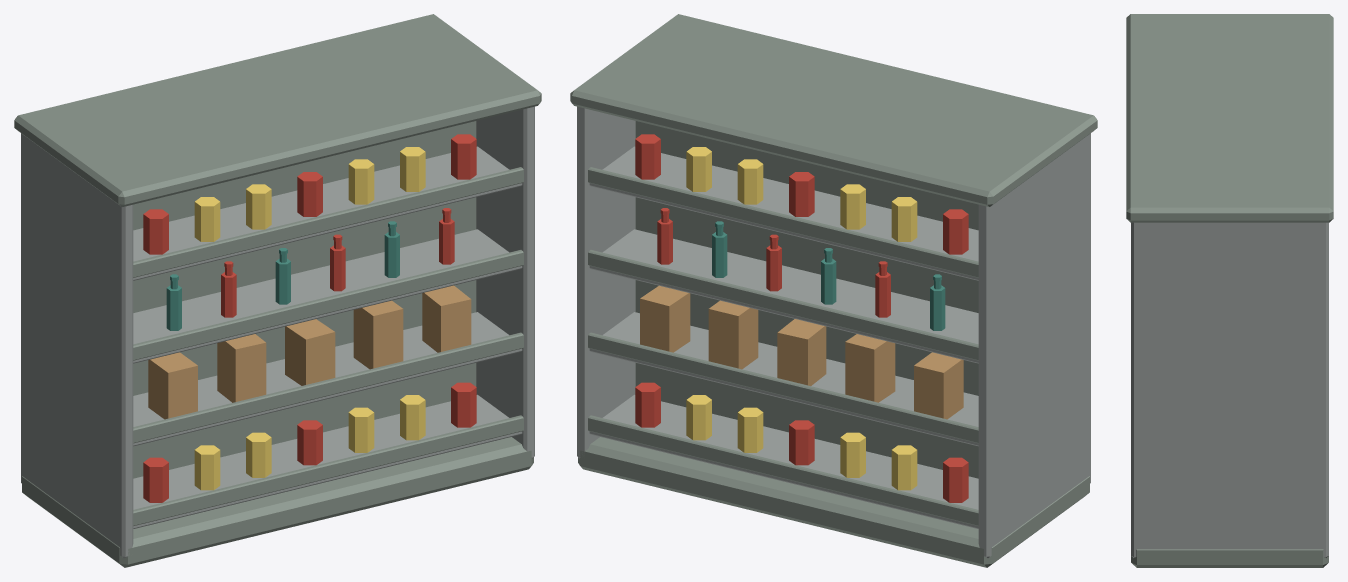
The model's file is store_shelf.glb.
The picture shows the model from 3 angles, left to right: view 1: azimuth 30°, elevation 25°; view 2: azimuth 150°, elevation 25°; view 3: azimuth 270°, elevation 25°; orthographic projection. The views are drawn at different scales.
Parts seen in each view (by area): view 1: store_shelf; view 2: store_shelf; view 3: store_shelf.
Part boxes in pixels (bbox=[...]): store_shelf: bbox=[14, 14, 541, 567]; store_shelf: bbox=[570, 14, 1097, 567]; store_shelf: bbox=[1126, 14, 1333, 567].
Size of the model in its own units: 1.98 by 1.7 by 0.88.
